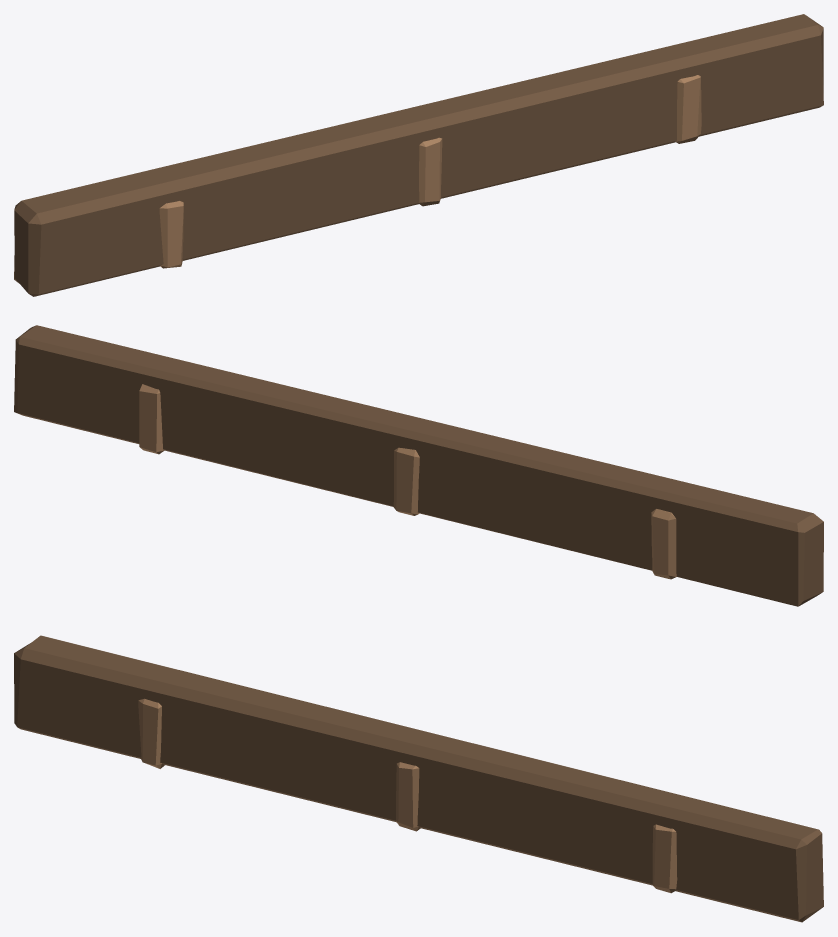
Rendered from PKX_Veranda_Lintel.fbx.
3 views of the same model, one above another, from view 1: azimuth 30°, elevation 25°; view 2: azimuth 150°, elevation 25°; view 3: azimuth 330°, elevation 25° (orthographic).
Visible parts, largest first — view 1: PKX_Veranda_Lintel; view 2: PKX_Veranda_Lintel; view 3: PKX_Veranda_Lintel.
Boxes of the visible parts, left/top/right/bottom form: PKX_Veranda_Lintel: left=14, top=14, right=823, bottom=296; PKX_Veranda_Lintel: left=14, top=325, right=823, bottom=606; PKX_Veranda_Lintel: left=14, top=635, right=823, bottom=922.
Bounding box in the file's own units: 201 × 20.61 × 12.37.
